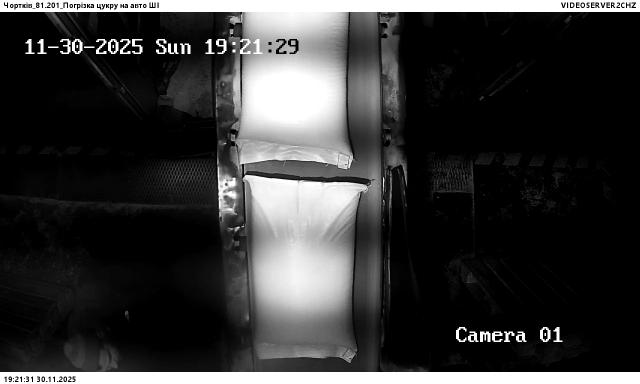bag: (245, 175, 368, 362), (238, 12, 362, 169)
